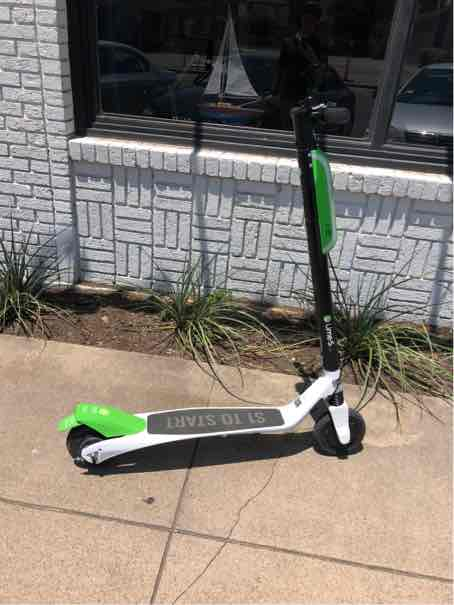scooter: (51, 90, 381, 484)
